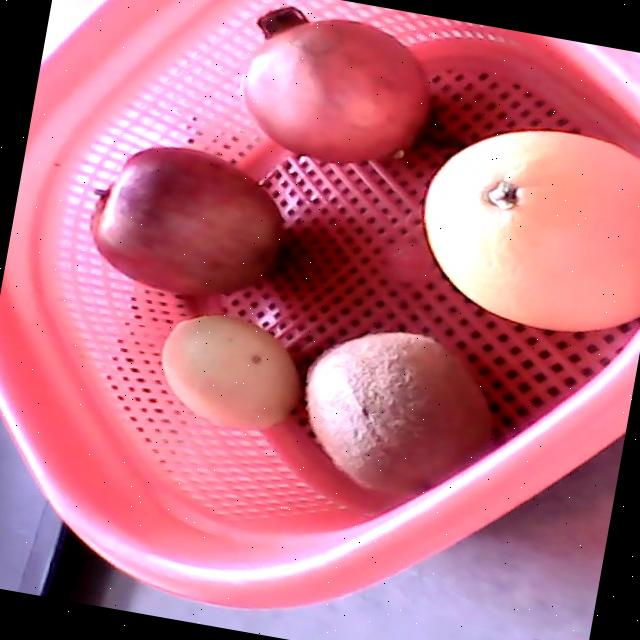apple: (90, 145, 284, 294)
kiwi: (306, 332, 492, 497)
lemon: (162, 314, 299, 429)
orange: (423, 129, 640, 331)
pomegranate: (244, 4, 430, 163)
